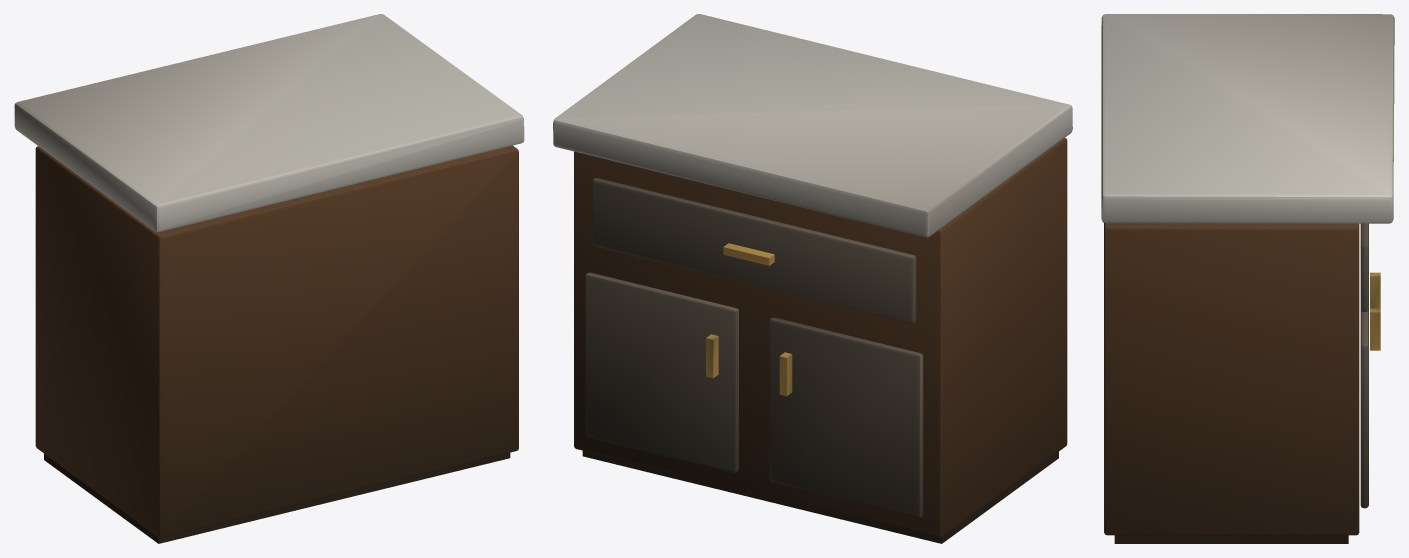
File: KitchenCounter.glb
3 renders of one model, left to right at view 1: azimuth 30°, elevation 25°; view 2: azimuth 150°, elevation 25°; view 3: azimuth 270°, elevation 25°, orthographic. The views are drawn at different scales.
Parts seen in each view (by area): view 1: KitchenCounter_wood, KitchenCounter_marble, KitchenCounter_wood_dark; view 2: KitchenCounter_wood, KitchenCounter_wood_old, KitchenCounter_marble, KitchenCounter_wood_dark, KitchenCounter_brass; view 3: KitchenCounter_wood, KitchenCounter_marble, KitchenCounter_wood_old, KitchenCounter_wood_dark, KitchenCounter_brass.
Boxes of the visible parts, <box> form: KitchenCounter_wood: <box>35,145,518,537</box>; KitchenCounter_marble: <box>14,14,524,231</box>; KitchenCounter_wood_dark: <box>44,452,510,543</box>; KitchenCounter_wood: <box>574,138,1067,537</box>; KitchenCounter_wood_old: <box>585,178,923,517</box>; KitchenCounter_marble: <box>553,14,1072,237</box>; KitchenCounter_wood_dark: <box>582,450,1058,543</box>; KitchenCounter_brass: <box>706,243,792,396</box>; KitchenCounter_wood: <box>1104,223,1359,535</box>; KitchenCounter_marble: <box>1101,14,1394,223</box>; KitchenCounter_wood_old: <box>1360,223,1368,508</box>; KitchenCounter_wood_dark: <box>1114,535,1348,543</box>; KitchenCounter_brass: <box>1370,272,1380,350</box>.
Size of the model in its own units: 4.1 by 3.66 by 2.76.
